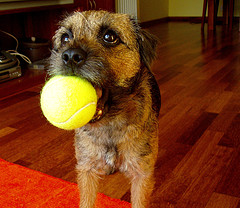tennis ball: (39, 73, 100, 132)
